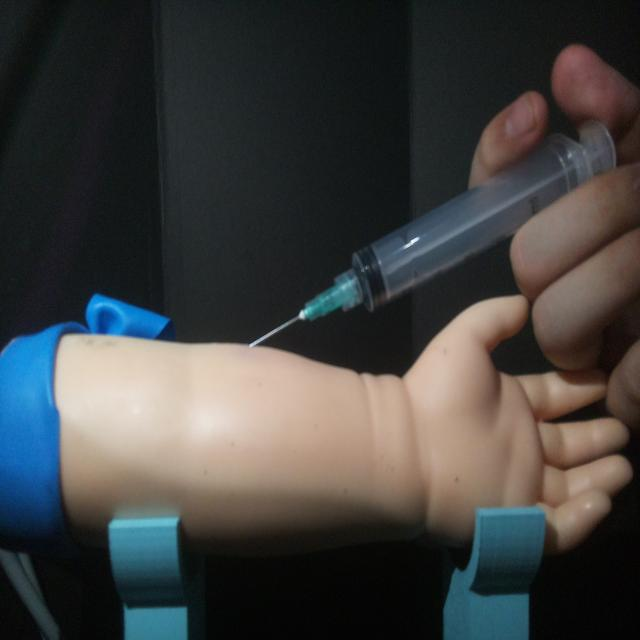25deg: (242, 114, 620, 352)
